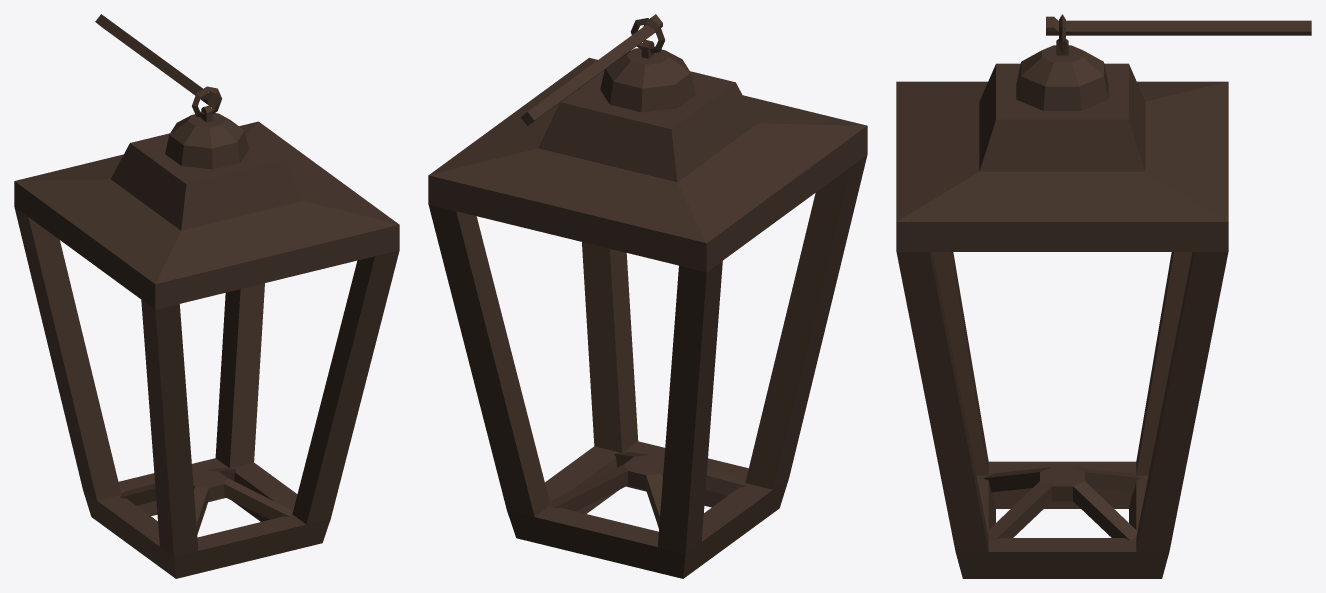
File: HangingLantern.obj
The picture shows the model from 3 angles, left to right: view 1: azimuth 30°, elevation 25°; view 2: azimuth 150°, elevation 25°; view 3: azimuth 270°, elevation 25°; orthographic projection. The views are drawn at different scales.
Visible parts, largest first — view 1: LanternCage, LanternTop, CandleHolder, ConnectingPole; view 2: LanternCage, LanternTop, CandleHolder, ConnectingPole; view 3: LanternCage, CandleHolder, LanternTop, ConnectingPole.
Boxes of the visible parts, box(x1,y1,x2,y2) form: LanternCage: box(14, 121, 399, 578); LanternTop: box(165, 113, 248, 169); CandleHolder: box(120, 467, 292, 534); ConnectingPole: box(95, 14, 219, 108); LanternCage: box(428, 57, 867, 578); LanternTop: box(600, 48, 695, 112); CandleHolder: box(550, 452, 747, 528); ConnectingPole: box(520, 14, 662, 125); LanternCage: box(896, 63, 1228, 578); CandleHolder: box(983, 467, 1141, 540); LanternTop: box(1016, 45, 1108, 110); ConnectingPole: box(1046, 16, 1311, 35).
Size of the model in its own units: 0.25 by 0.4339 by 0.3125.
